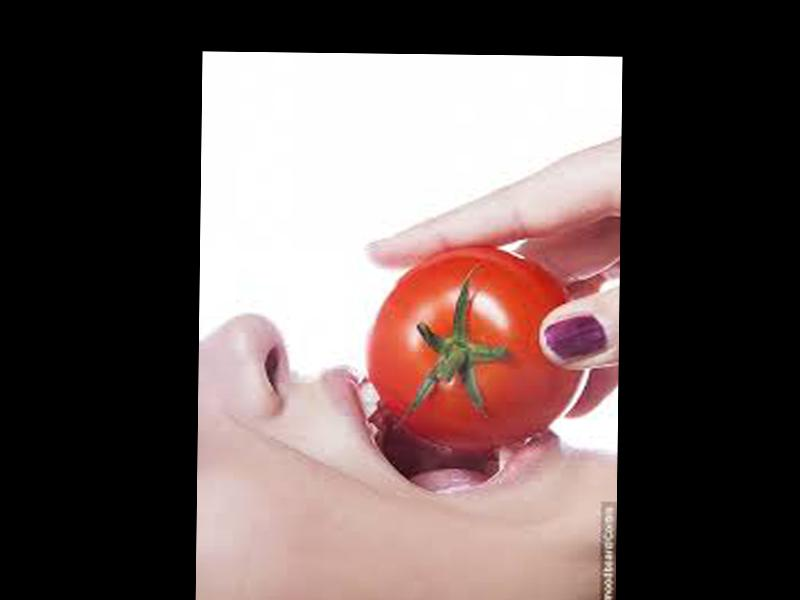Tomato: (365, 243, 590, 449)
